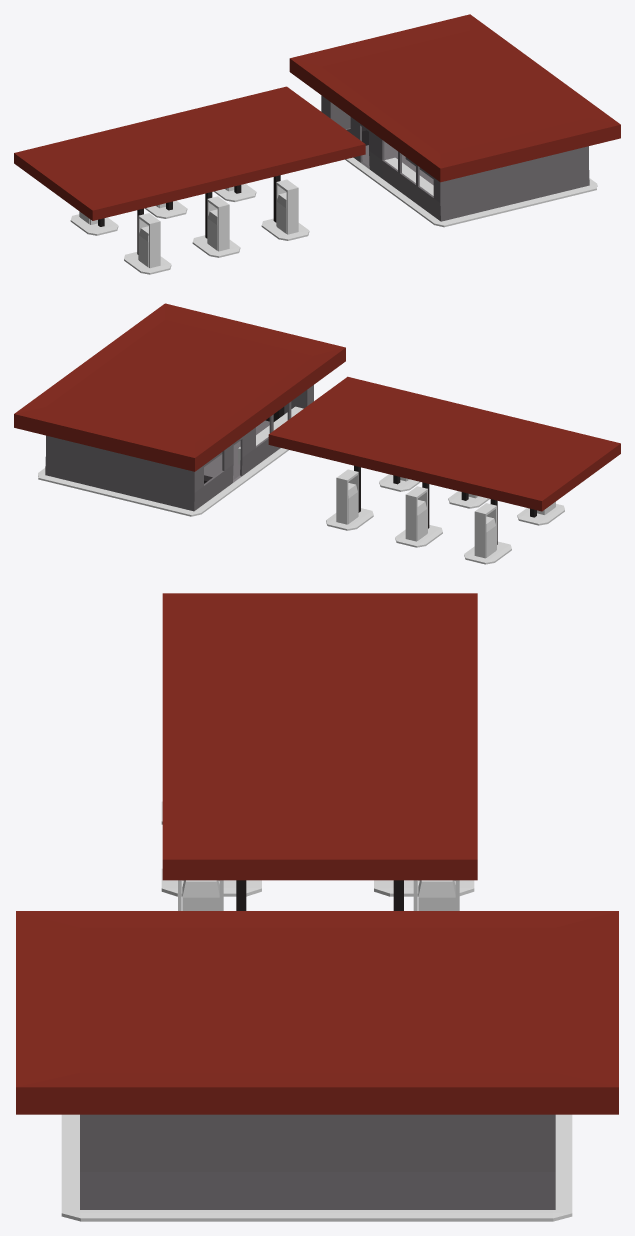
The model's file is Gas Station.fbx.
3 views of the same model, one above another, from view 1: azimuth 30°, elevation 25°; view 2: azimuth 150°, elevation 25°; view 3: azimuth 270°, elevation 25° (orthographic). The views are drawn at different scales.
Visible parts, largest first — view 1: Cube.002, Cube, Cube.016, Cube.020, Cube.028, Cube.027, Cube.030, Cube.029, Cube.026, Cube.021, Cube.022, Cube.025 (+1 smaller); view 2: Cube.002, Cube, Cube.016, Cube.031, Cube.023, Cube.024, Cube.029, Cube.030, Cube.025, Cube.022, Cube.019, Cube.021 (+1 smaller); view 3: Cube.002, Cube, Cube.016, Cube.023, Cube.020.
Boxes of the visible parts, <box> form: Cube.002: <box>289,14,620,221</box>; Cube: <box>14,86,365,220</box>; Cube.016: <box>345,157,597,227</box>; Cube.020: <box>276,179,298,234</box>; Cube.028: <box>138,213,160,268</box>; Cube.027: <box>207,196,229,251</box>; Cube.030: <box>70,214,118,235</box>; Cube.029: <box>124,252,171,274</box>; Cube.026: <box>192,235,240,257</box>; Cube.021: <box>261,218,309,240</box>; Cube.022: <box>214,184,256,201</box>; Cube.025: <box>145,200,187,218</box>; Cube.002: <box>14,303,345,511</box>; Cube: <box>268,376,620,511</box>; Cube.016: <box>38,448,288,516</box>; Cube.031: <box>474,503,496,558</box>; Cube.023: <box>336,469,358,524</box>; Cube.024: <box>405,486,427,541</box>; Cube.029: <box>517,504,564,525</box>; Cube.030: <box>464,541,511,564</box>; Cube.025: <box>395,525,442,547</box>; Cube.022: <box>326,508,373,530</box>; Cube.019: <box>238,406,303,464</box>; Cube.021: <box>379,474,420,491</box>; Cube.002: <box>16,911,618,1209</box>; Cube: <box>162,593,477,880</box>; Cube.016: <box>61,1114,572,1221</box>; Cube.023: <box>413,880,459,910</box>; Cube.020: <box>178,880,223,910</box>.
Size of the model in its own units: 2884 by 437 by 1532.
